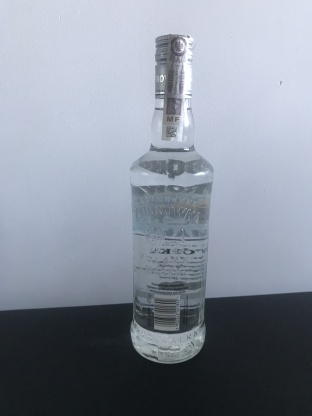nakretka: (151, 29, 197, 101)
